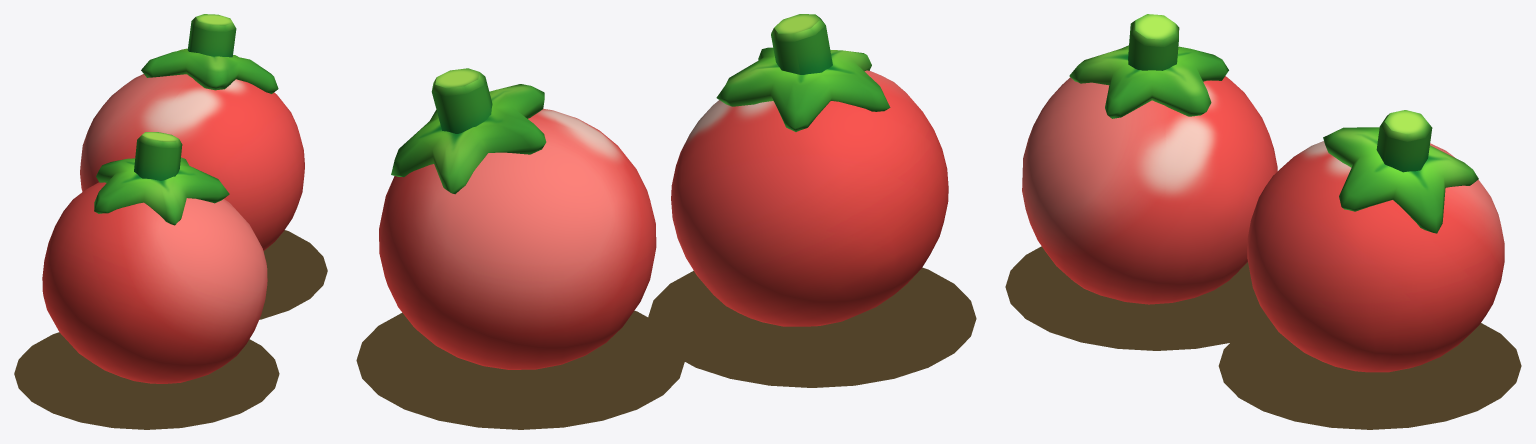
The model's file is Tomato_L04.fbx.
The picture shows the model from 3 angles, left to right: view 1: azimuth 30°, elevation 25°; view 2: azimuth 150°, elevation 25°; view 3: azimuth 270°, elevation 25°; orthographic projection. The views are drawn at different scales.
Parts seen in each view (by area): view 1: TomatoL4_body, TomatoL4_SDW; view 2: TomatoL4_body, TomatoL4_SDW; view 3: TomatoL4_body, TomatoL4_SDW.
Boxes of the visible parts, x1=… form: TomatoL4_body: x1=42, y1=14, x2=304, y2=383; TomatoL4_SDW: x1=14, y1=230, x2=327, y2=429; TomatoL4_body: x1=379, y1=14, x2=948, y2=369; TomatoL4_SDW: x1=356, y1=267, x2=976, y2=429; TomatoL4_body: x1=1022, y1=14, x2=1504, y2=372; TomatoL4_SDW: x1=1005, y1=246, x2=1521, y2=429.
Size of the model in its own units: 55.74 by 34.15 by 58.75.
